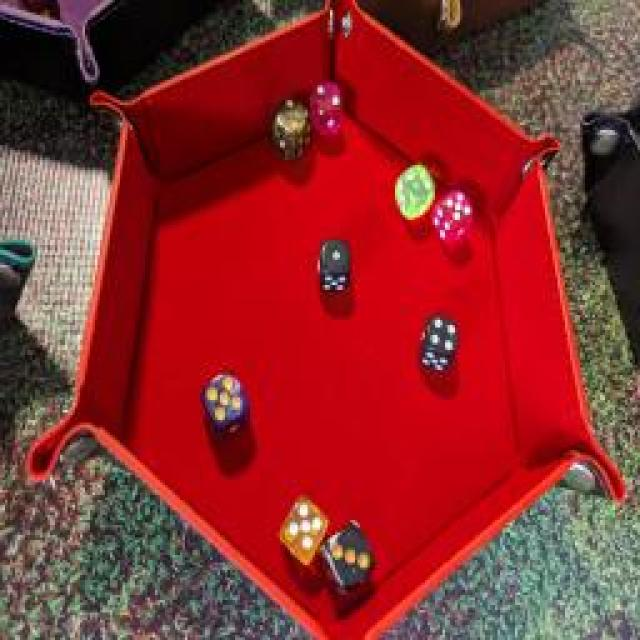dice_1: (314, 236, 354, 292)
dice_2: (270, 94, 310, 164), (394, 161, 434, 224), (310, 76, 345, 136)
dice_3: (320, 515, 380, 593)
dice_4: (412, 314, 462, 368)
dice_5: (198, 368, 252, 434), (277, 491, 325, 561), (430, 182, 475, 248)
